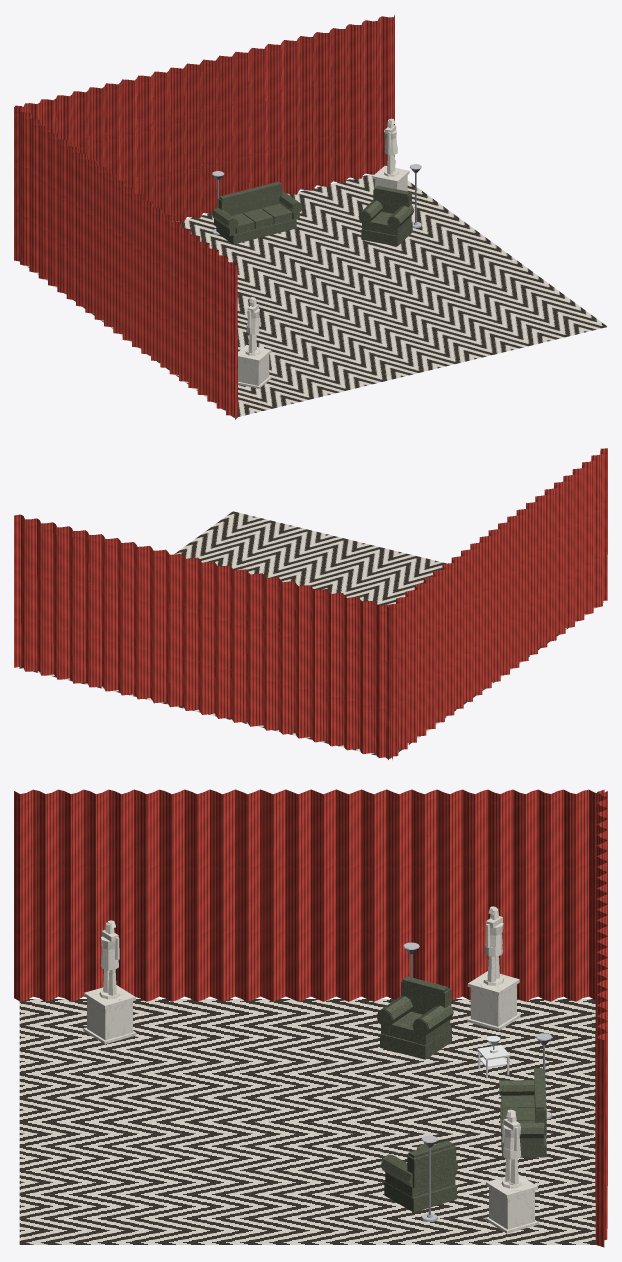
The model's file is dark_lodge_biome.glb.
3 views of the same model, one above another, from view 1: azimuth 30°, elevation 25°; view 2: azimuth 150°, elevation 25°; view 3: azimuth 270°, elevation 25° (orthographic). The views are drawn at different scales.
Visible parts, largest first — view 1: Lodge_Floor, Curtain_Back, Curtain_Left, Lodge_Sofa_00, Lodge_Armchair_02, Lodge_Statue_02, Lodge_Statue_00; view 2: Curtain_Back, Curtain_Left, Lodge_Floor; view 3: Lodge_Floor, Curtain_Left, Curtain_Back, Lodge_Armchair_00, Lodge_Armchair_02, Lodge_Statue_00, Lodge_Statue_02, Lodge_Statue_01, Lodge_Sofa_00, Lodge_SideTable_00.
Boxes of the visible parts, bbox=[...] form: Lodge_Floor: bbox=[27, 174, 607, 417]; Curtain_Back: bbox=[14, 15, 395, 261]; Curtain_Left: bbox=[15, 105, 238, 419]; Lodge_Sofa_00: bbox=[212, 181, 302, 244]; Lodge_Armchair_02: bbox=[358, 185, 414, 246]; Lodge_Statue_02: bbox=[238, 297, 271, 388]; Lodge_Statue_00: bbox=[372, 118, 409, 191]; Curtain_Back: bbox=[14, 514, 392, 759]; Curtain_Left: bbox=[386, 448, 607, 759]; Lodge_Floor: bbox=[19, 511, 603, 758]; Lodge_Floor: bbox=[19, 999, 595, 1244]; Curtain_Left: bbox=[14, 789, 607, 1001]; Curtain_Back: bbox=[595, 789, 607, 1247]; Lodge_Armchair_00: bbox=[376, 976, 453, 1059]; Lodge_Armchair_02: bbox=[380, 1140, 458, 1212]; Lodge_Statue_00: bbox=[485, 1109, 538, 1233]; Lodge_Statue_02: bbox=[83, 920, 136, 1044]; Lodge_Statue_01: bbox=[467, 906, 520, 1030]; Lodge_Sofa_00: bbox=[499, 1068, 546, 1157]; Lodge_SideTable_00: bbox=[477, 1045, 510, 1078].
Bounding box in the file's own units: 26 × 10.02 × 26.
Materials: 6 (4 with a texture image).
